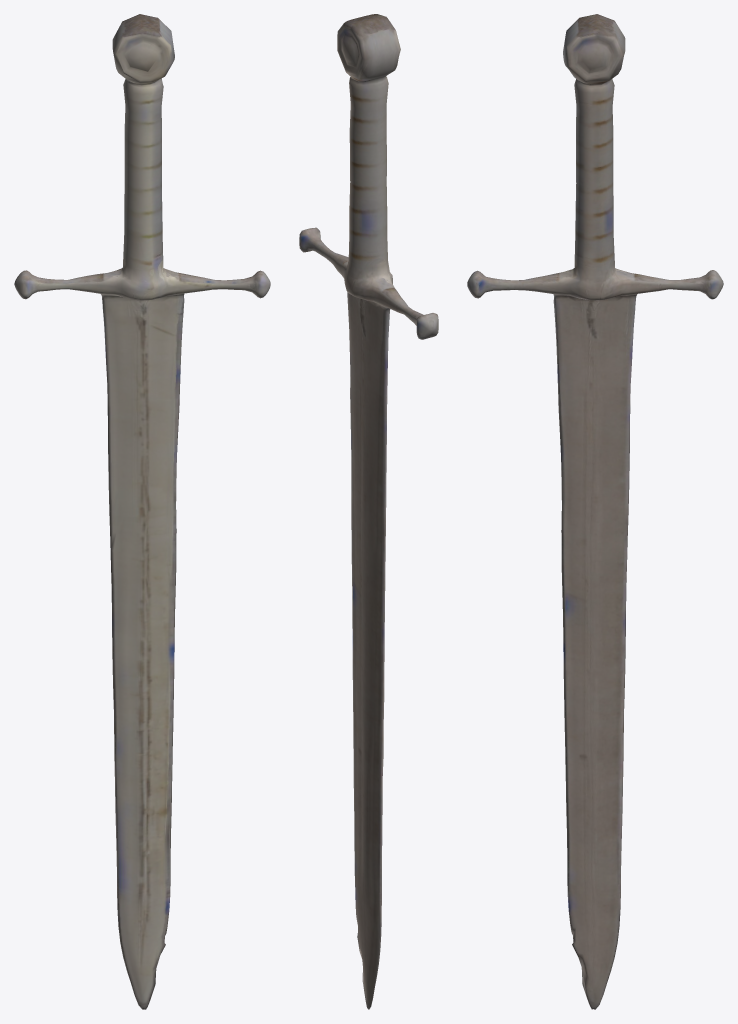
The model's file is sword-bronze.glb.
The picture shows the model from 3 angles, left to right: view 1: azimuth 90°, elevation 25°; view 2: azimuth 210°, elevation 25°; view 3: azimuth 270°, elevation 25°; orthographic projection.
Visible parts, largest first — view 1: file1; view 2: file1; view 3: file1.
Part boxes in pixels (x1,y1,x2,y2): file1: [14, 14, 270, 1009]; file1: [299, 14, 438, 1009]; file1: [467, 14, 723, 1009].
Bounding box in the file's own units: 0.0916 × 1.99 × 0.4685.
Materials: 1 (1 with a texture image).
